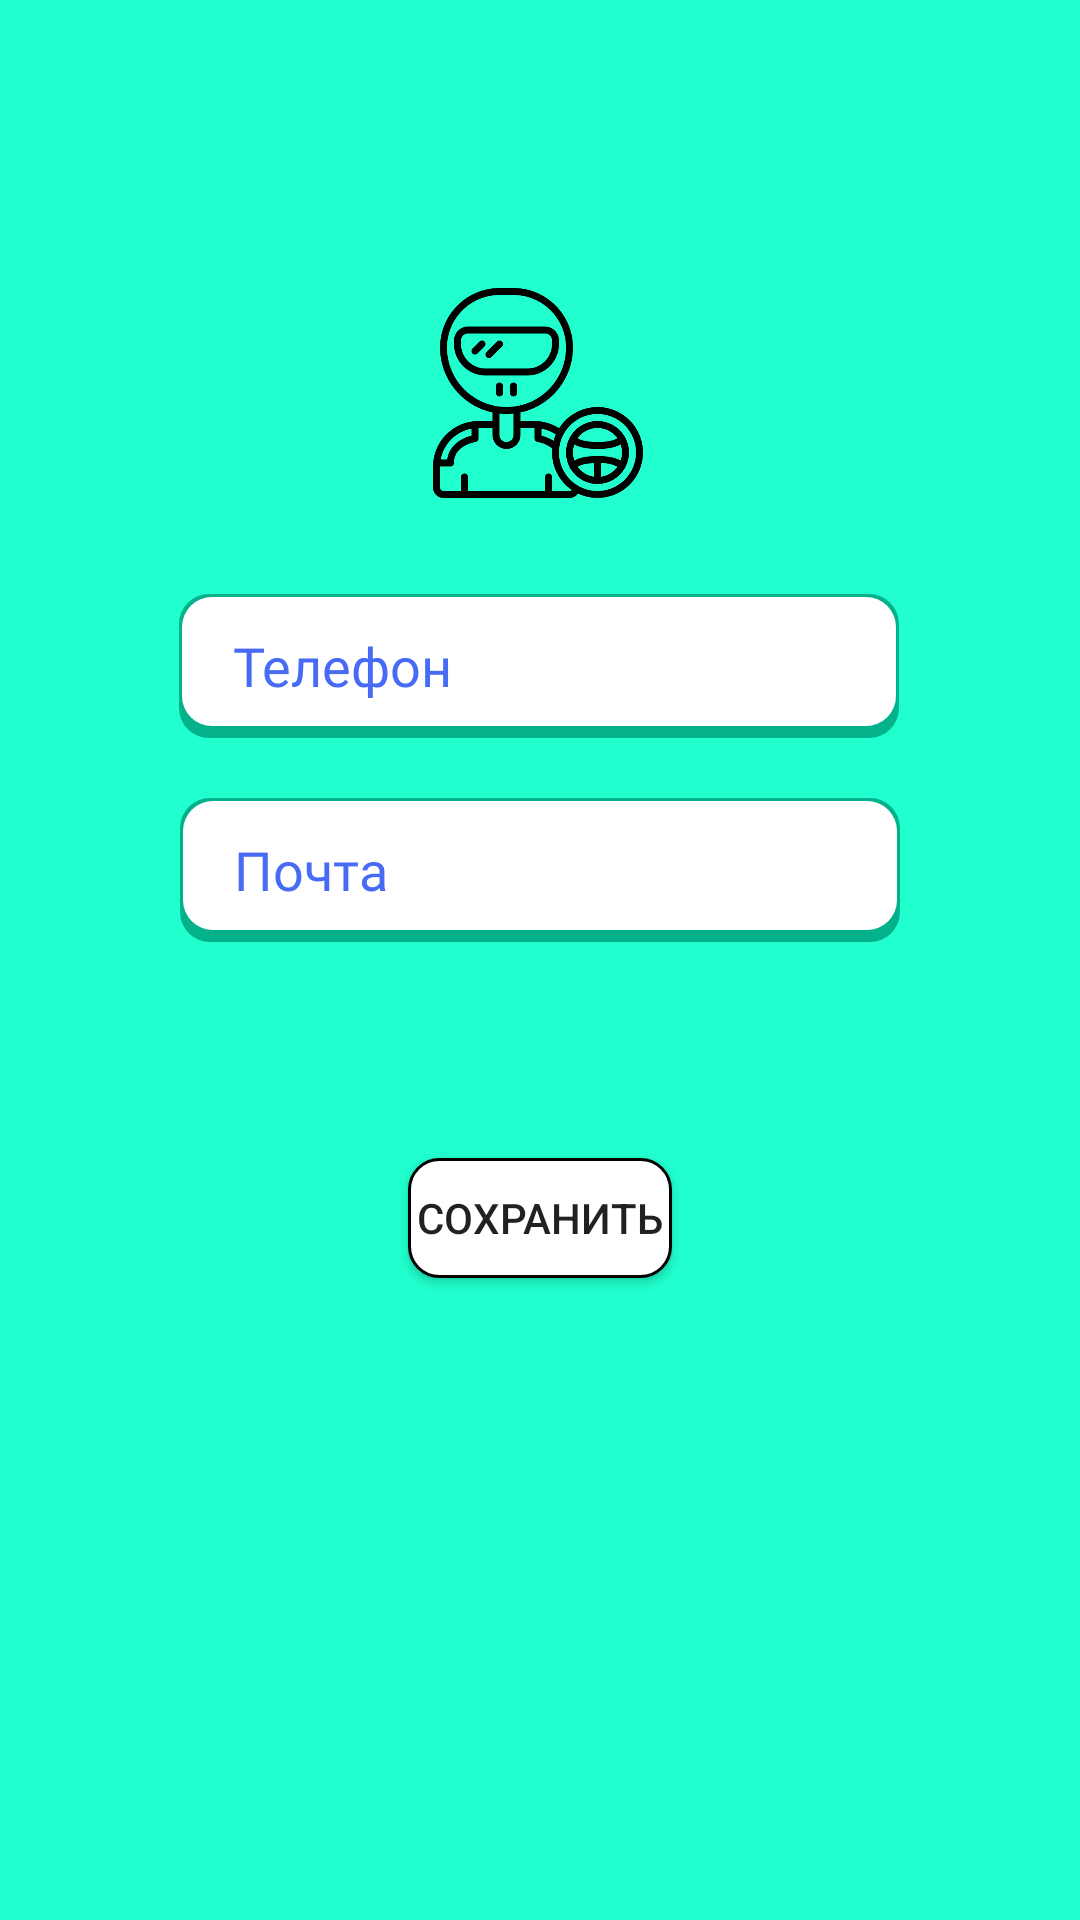

Where icons sit on this 1080 × 1920 app screen, as (x1, y1, x2, y2):
driver: (433, 288, 643, 498)
